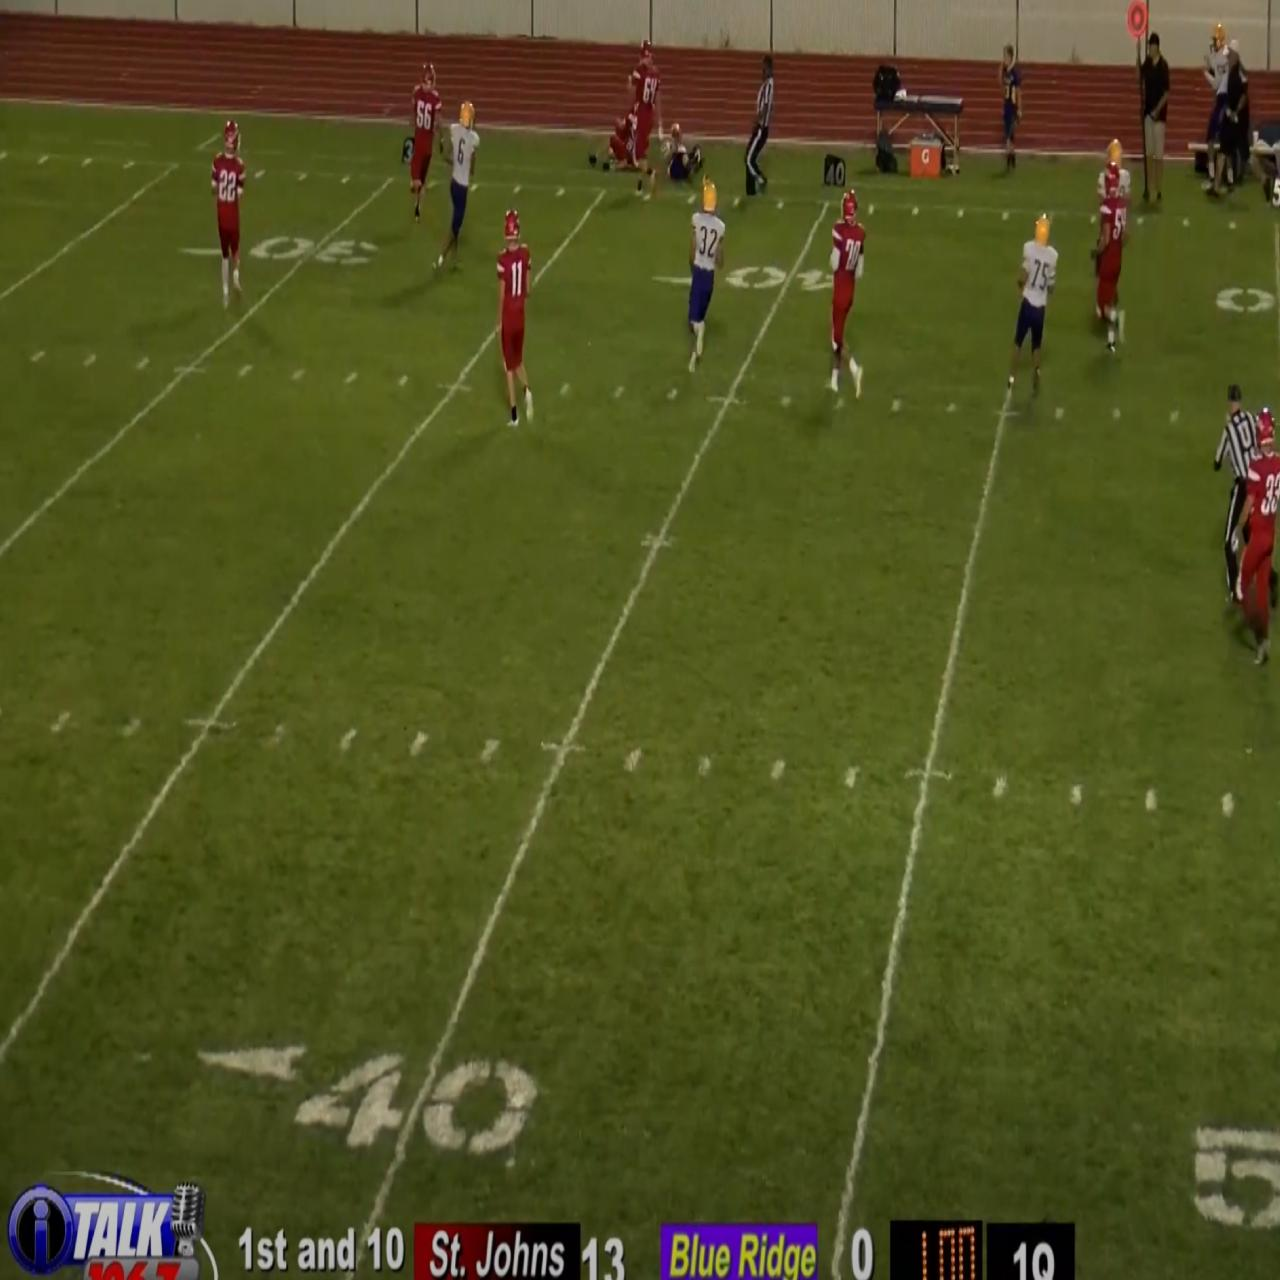30L: (178, 233, 377, 268)
40L: (192, 1040, 539, 1155), (652, 263, 846, 292)
50: (1193, 1123, 1280, 1232)
